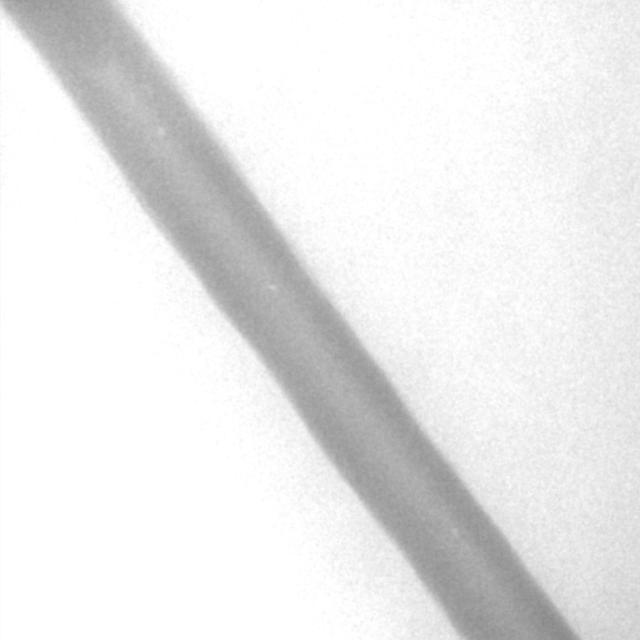air-hole: (156, 124, 162, 133)
